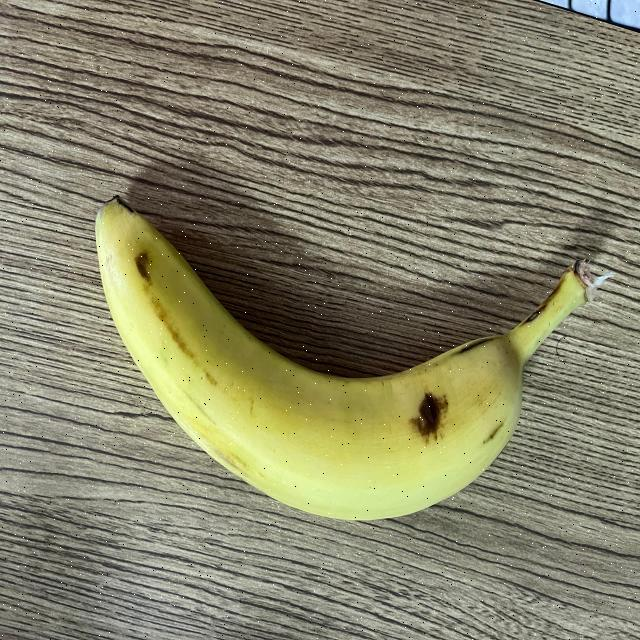Persik: (93, 188, 606, 526)
